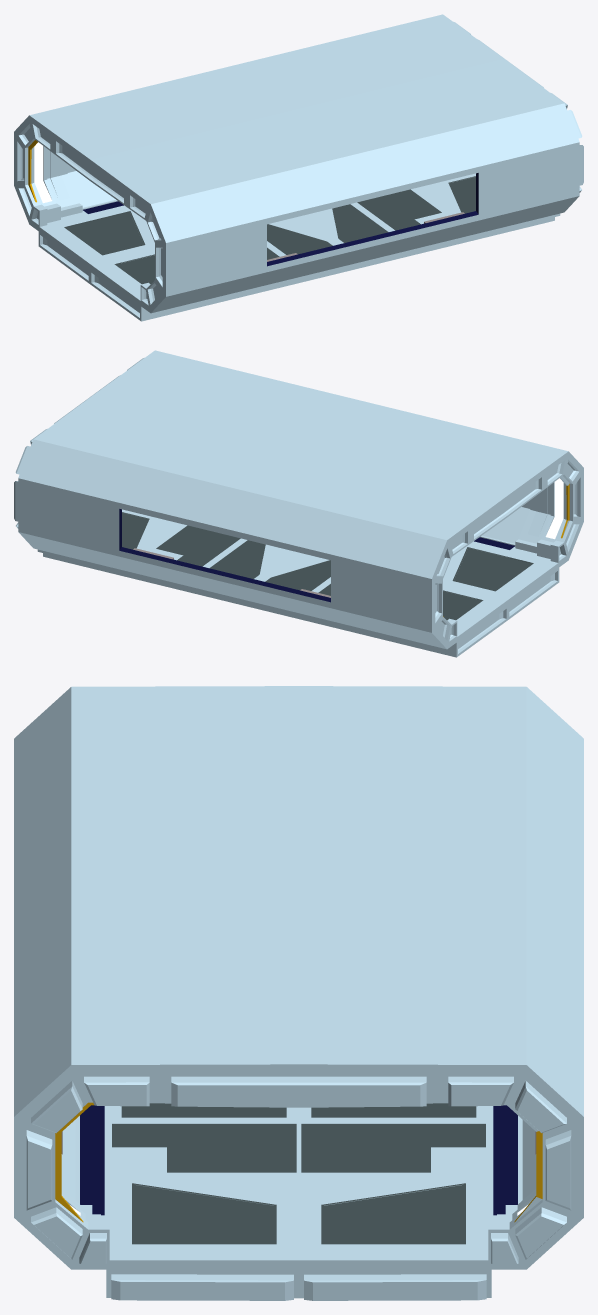
File: menu_scene.glb
3 views of the same model, one above another, from view 1: azimuth 30°, elevation 25°; view 2: azimuth 150°, elevation 25°; view 3: azimuth 270°, elevation 25° (orthographic). The views are drawn at different scales.
Visible parts, largest first — view 1: Cube.016; view 2: Cube.016; view 3: Cube.016.
Boxes of the visible parts, bbox=[...] form: Cube.016: bbox=[14, 14, 583, 321]; Cube.016: bbox=[14, 350, 583, 657]; Cube.016: bbox=[14, 686, 583, 1300].
Size of the model in its own units: 26.5 by 7.5 by 16.55.
